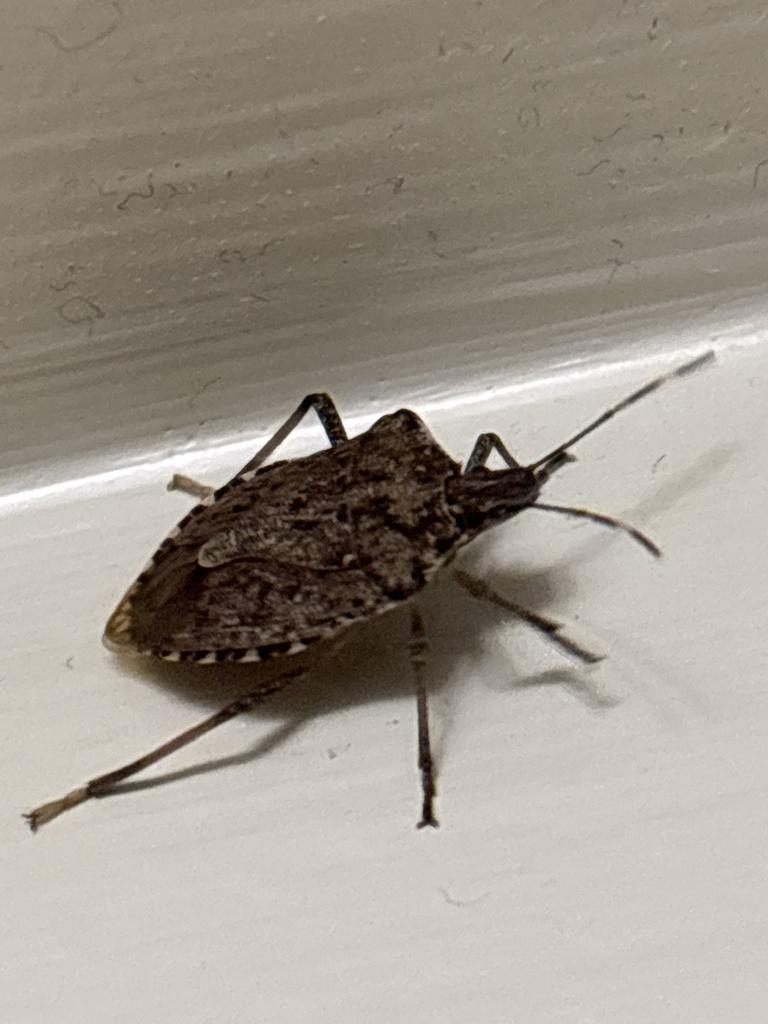stink_bugs: (0, 272, 768, 878)
